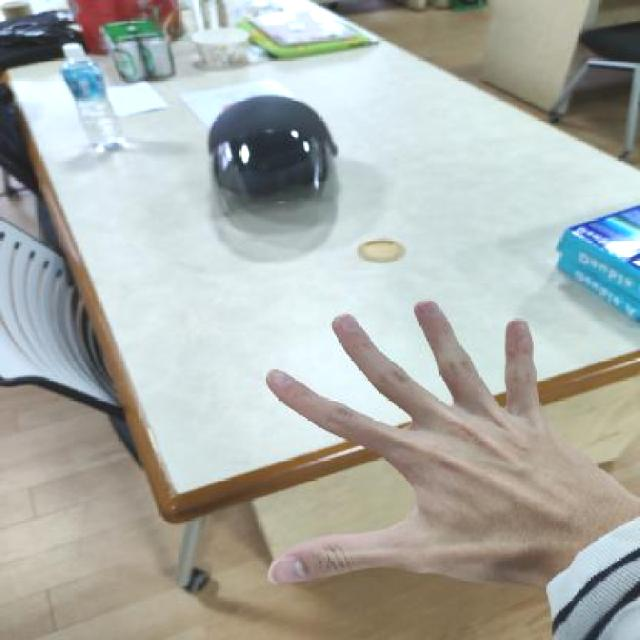no_glove: (238, 283, 632, 612)
